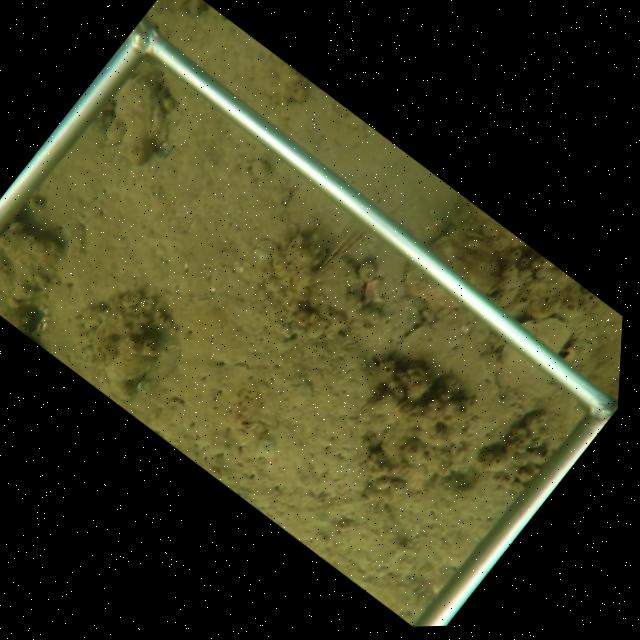Oyster-Closed: (87, 301, 156, 385), (519, 316, 575, 355)
Oyster-Indeterminate: (425, 227, 502, 296), (108, 77, 172, 154), (400, 259, 469, 315)
